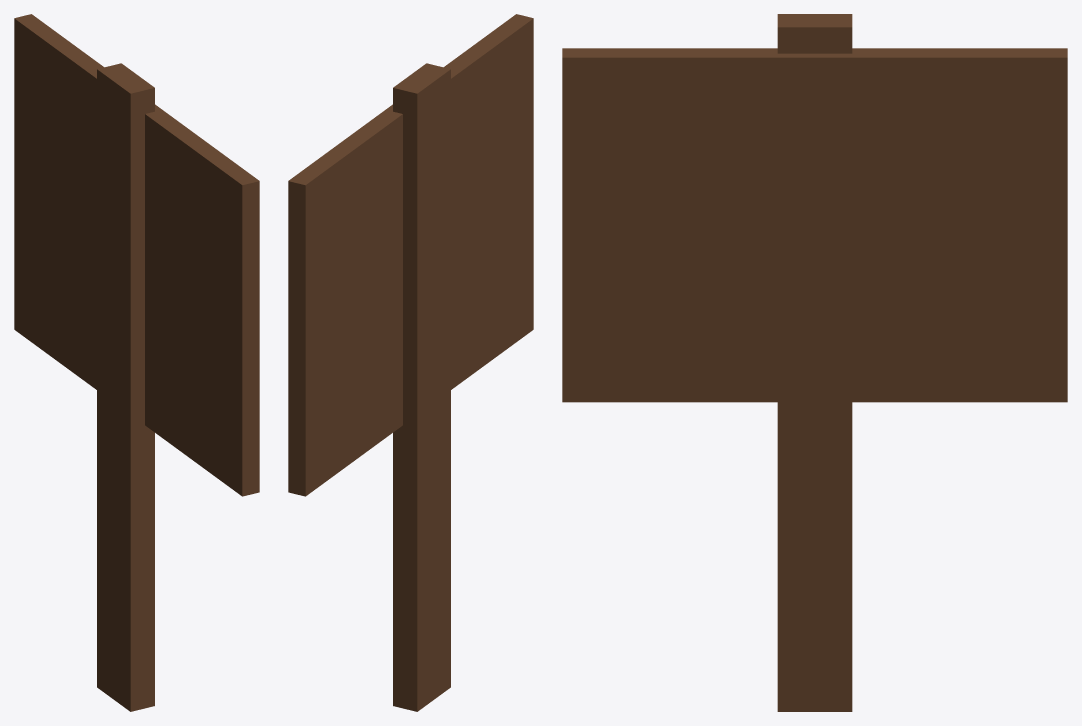
Rendered from Sign.fbx.
3 renders of one model, left to right at view 1: azimuth 30°, elevation 25°; view 2: azimuth 150°, elevation 25°; view 3: azimuth 270°, elevation 25°, orthographic. The views are drawn at different scales.
Visible parts, largest first — view 1: Sign; view 2: Sign; view 3: Sign.
Boxes of the visible parts, x1,y1,x2,y2 form: Sign: (14,14,259,711); Sign: (288,14,533,711); Sign: (562,14,1067,711).
Bounding box in the file's own units: 2.98 × 55.16 × 36.91.
